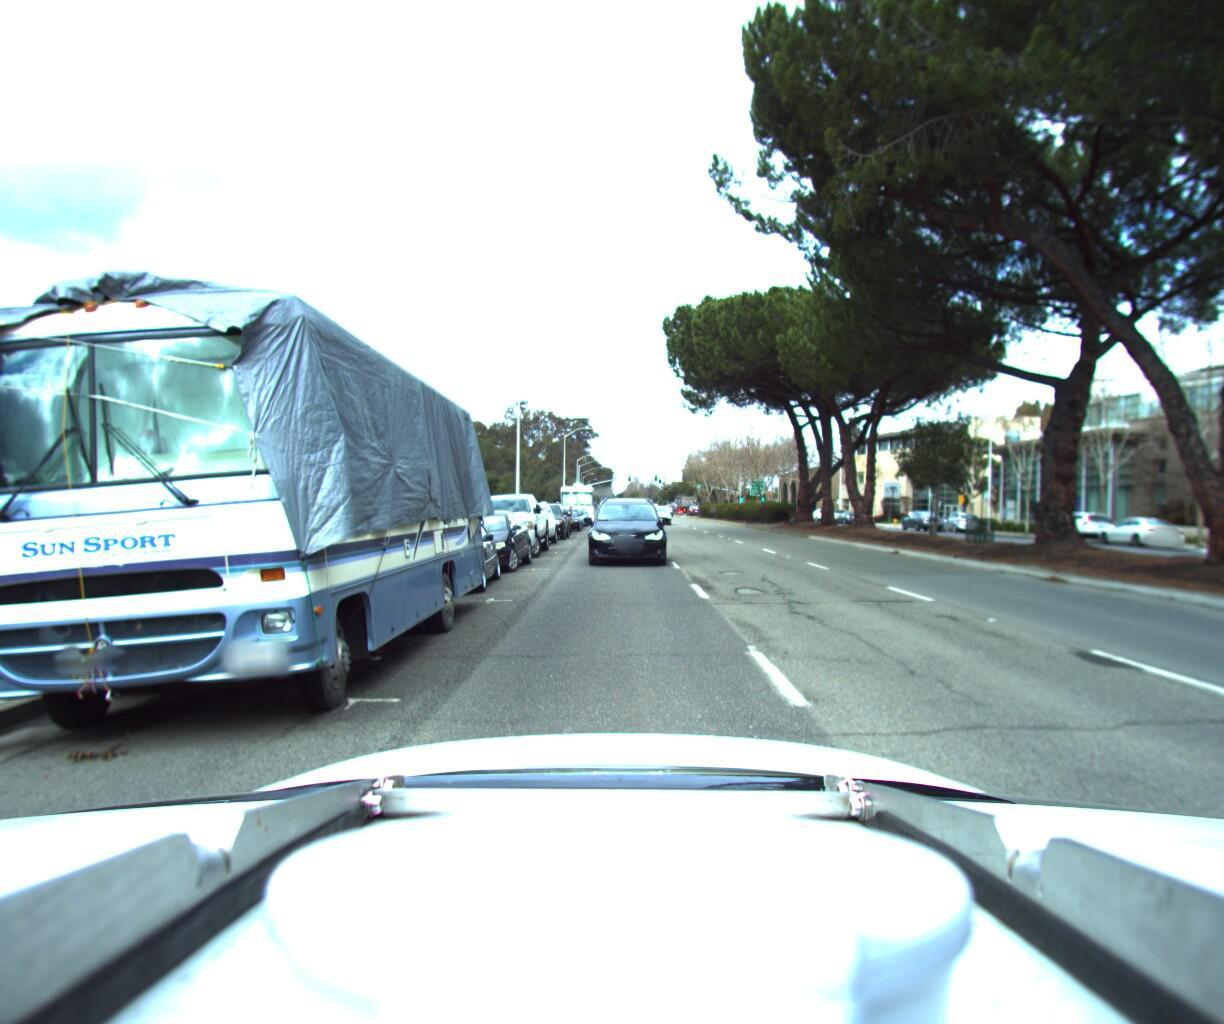bus: (557, 477, 594, 516)
car: (379, 510, 502, 595), (427, 502, 535, 573), (583, 489, 661, 563), (467, 485, 550, 554), (1091, 508, 1185, 542), (499, 492, 554, 543), (1039, 503, 1116, 538), (524, 493, 569, 537), (530, 498, 571, 531), (935, 504, 982, 527), (890, 503, 938, 523), (550, 499, 580, 527), (645, 498, 671, 519)
